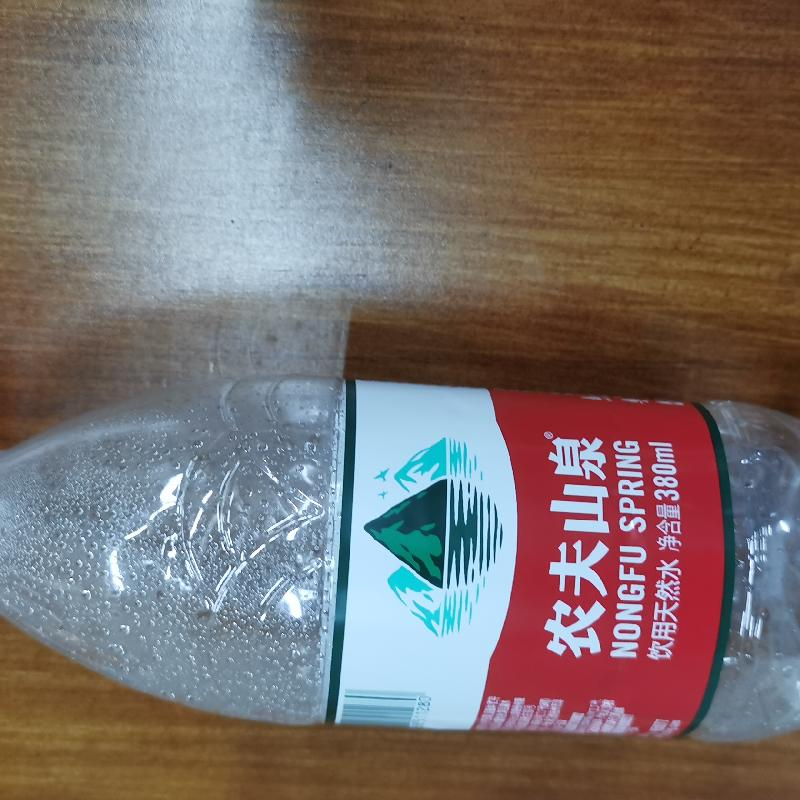bottles: (9, 369, 799, 751)
